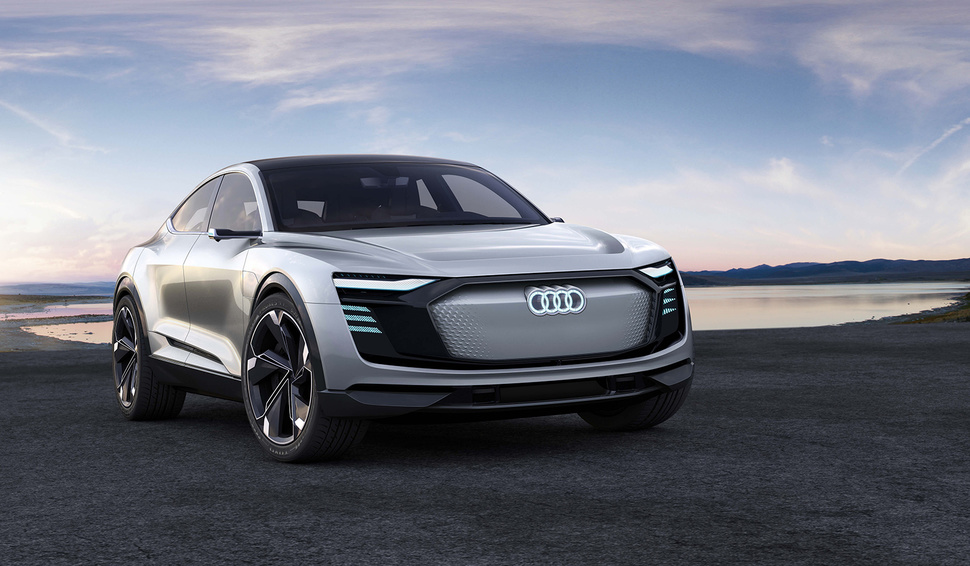audi: (101, 150, 701, 471)
